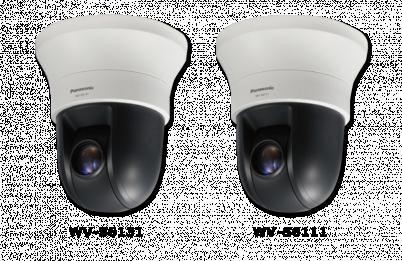maru: (35, 15, 190, 215)
